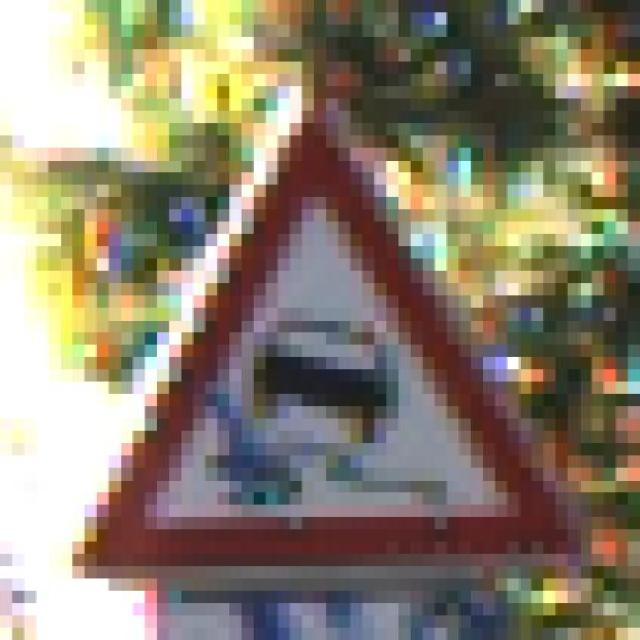Slippery Road Ahead: (48, 111, 580, 566)
